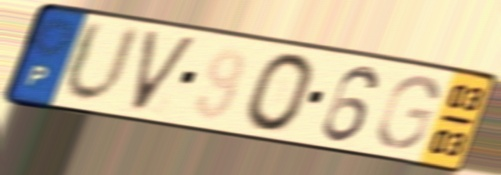6: (320, 62, 382, 145)
9: (192, 44, 252, 123)
G: (373, 73, 441, 151)
O: (241, 50, 319, 135)
U: (60, 16, 146, 108)
V: (129, 26, 203, 116)
